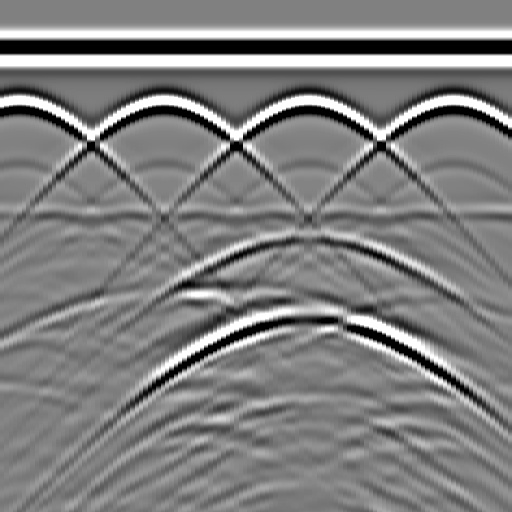grout_surface: (1, 199, 512, 229)
rebar: (142, 84, 182, 124), (286, 84, 326, 124), (430, 84, 470, 124)
rock_surface: (1, 288, 511, 386)
water_void: (275, 211, 335, 251)
